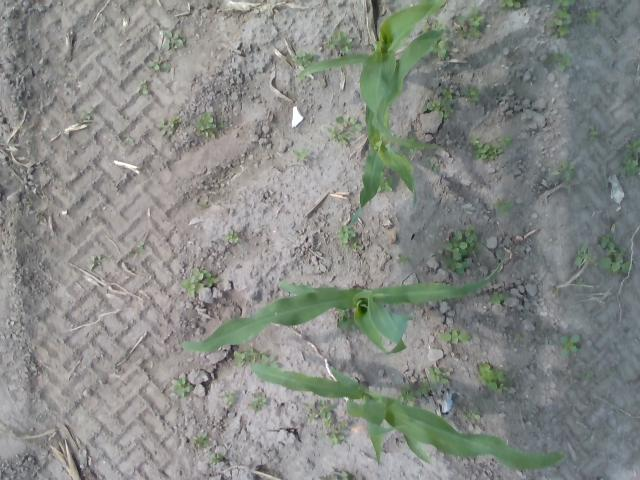Maize: (247, 361, 566, 471), (182, 261, 504, 355), (295, 0, 449, 152), (348, 30, 443, 236)
Weeds: (441, 226, 484, 277), (596, 224, 633, 275), (182, 266, 220, 298), (396, 376, 432, 408), (326, 115, 362, 146), (470, 136, 512, 162), (422, 88, 457, 119), (302, 398, 335, 430), (456, 6, 486, 41), (476, 362, 509, 393), (550, 0, 576, 38), (234, 347, 278, 369), (620, 138, 640, 178), (322, 422, 350, 445), (194, 112, 217, 140), (428, 366, 454, 390), (570, 243, 596, 266), (426, 36, 450, 60), (560, 333, 582, 359), (327, 30, 353, 52), (171, 376, 194, 400), (338, 225, 360, 249), (161, 29, 186, 50), (550, 161, 574, 182), (544, 52, 572, 70), (439, 329, 472, 343), (157, 116, 180, 135), (248, 392, 267, 414), (400, 134, 420, 154), (376, 171, 394, 193), (290, 51, 314, 67), (578, 8, 601, 24), (420, 20, 448, 33), (494, 200, 514, 218), (464, 84, 482, 102), (314, 471, 348, 480), (488, 291, 508, 306), (464, 406, 482, 422), (148, 60, 170, 73), (88, 254, 104, 270), (193, 432, 209, 448), (292, 148, 310, 162), (224, 228, 239, 244), (127, 242, 145, 255), (498, 0, 522, 9), (223, 391, 236, 407), (210, 451, 223, 465), (397, 252, 411, 265), (580, 369, 594, 381), (426, 160, 440, 172), (136, 80, 148, 94), (588, 125, 598, 141), (336, 308, 350, 319), (80, 112, 92, 121), (218, 120, 228, 130), (576, 278, 586, 286), (514, 332, 522, 340), (123, 138, 134, 142)
